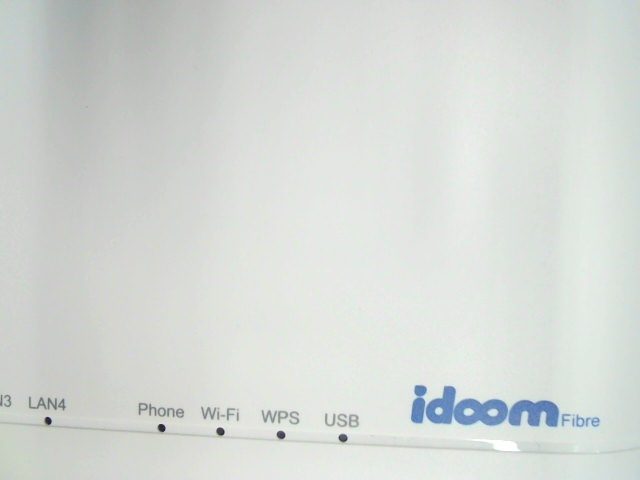BB_idoom: (399, 375, 602, 440)
